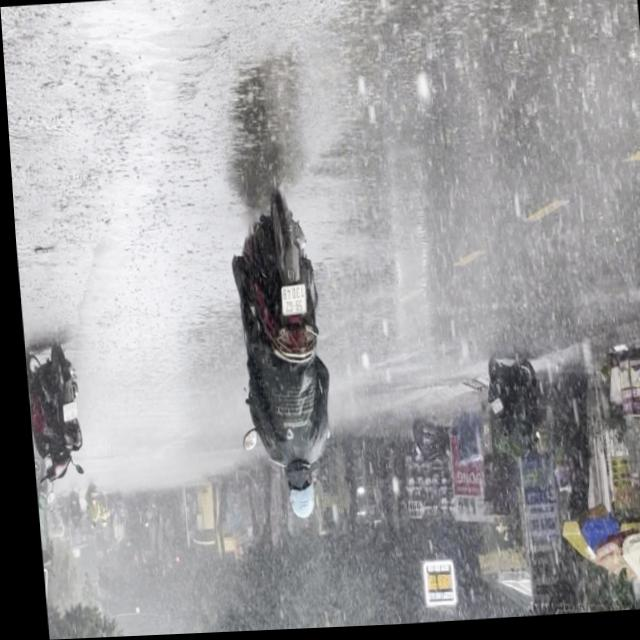helmet: (278, 471, 309, 522)
licenseplate: (216, 184, 337, 529)
nohelmet: (276, 286, 302, 317)
